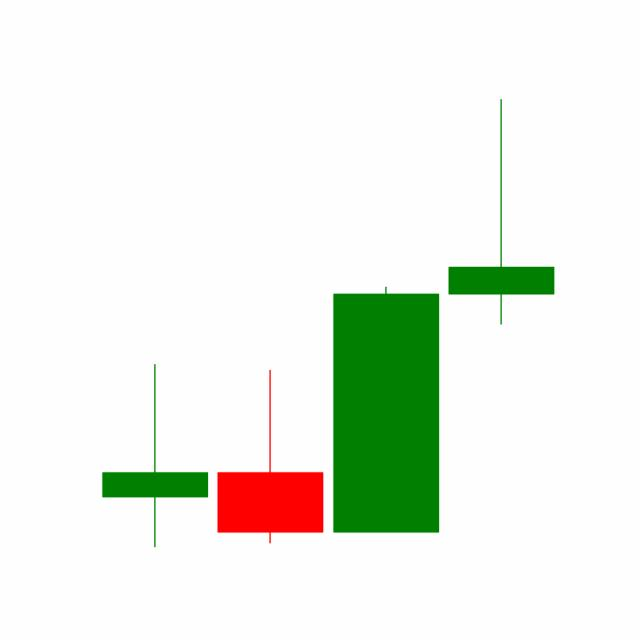Marubozu: (328, 284, 444, 535)
